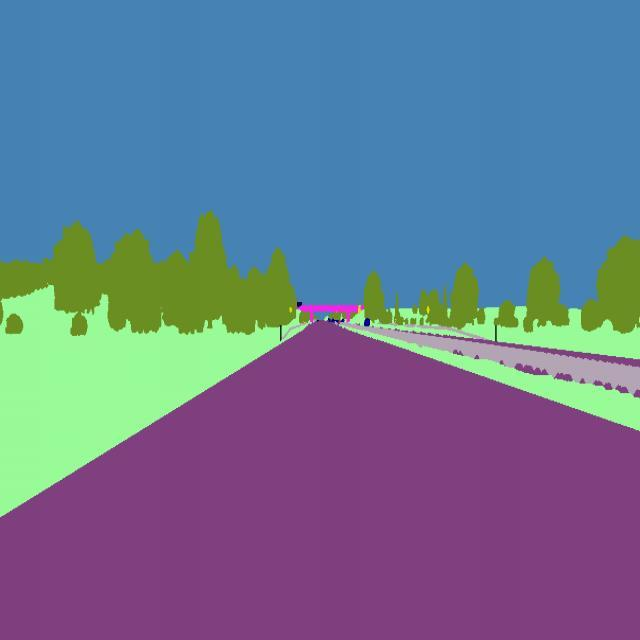safe: (363, 318, 373, 330)
